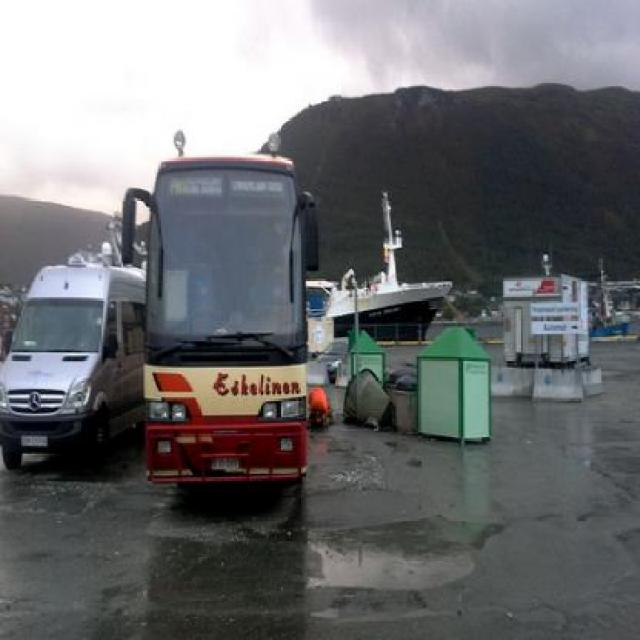ship: (328, 193, 448, 342)
